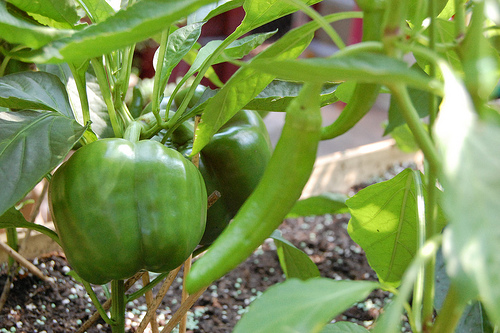capsicum: (46, 119, 209, 288)
